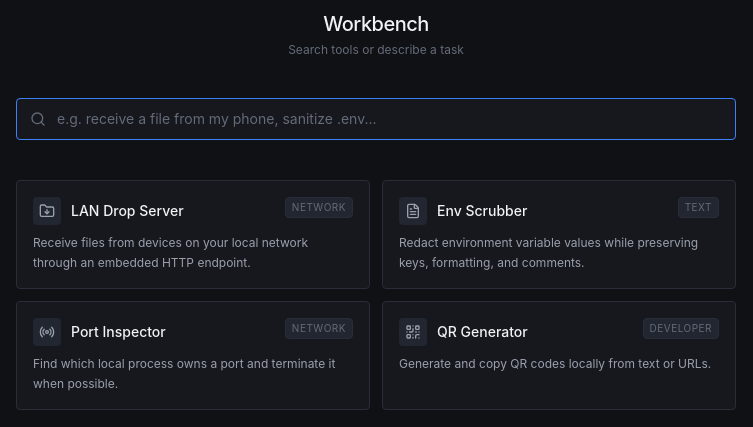
Test: LauncherPage › clears query on clear button click
Type "test" into the search field at (376, 119), box [16,98,736,140]
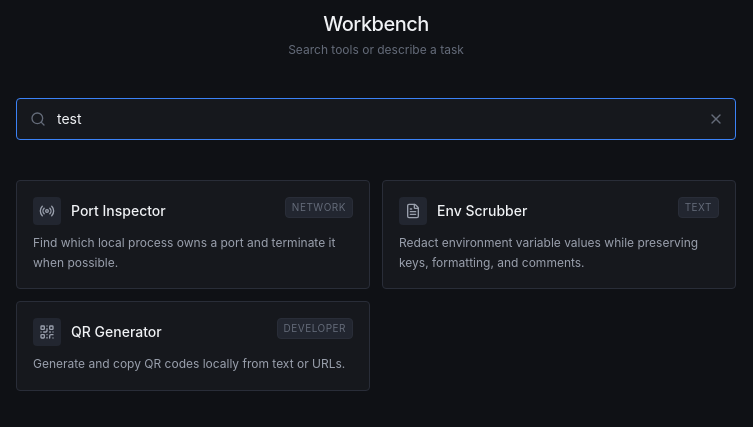
Click the button named "clear search" at (722, 119), box [708,98,736,140]
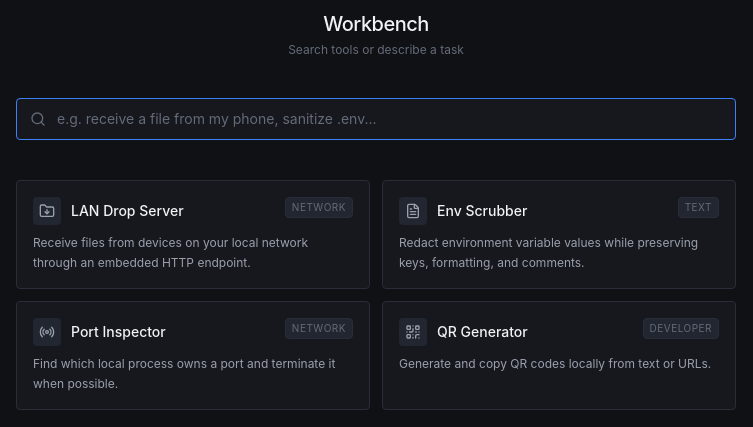
Now the search field is empty, box [16,98,736,140]
Now the heading "LAN Drop Server" is shown, box [71,201,184,221]
